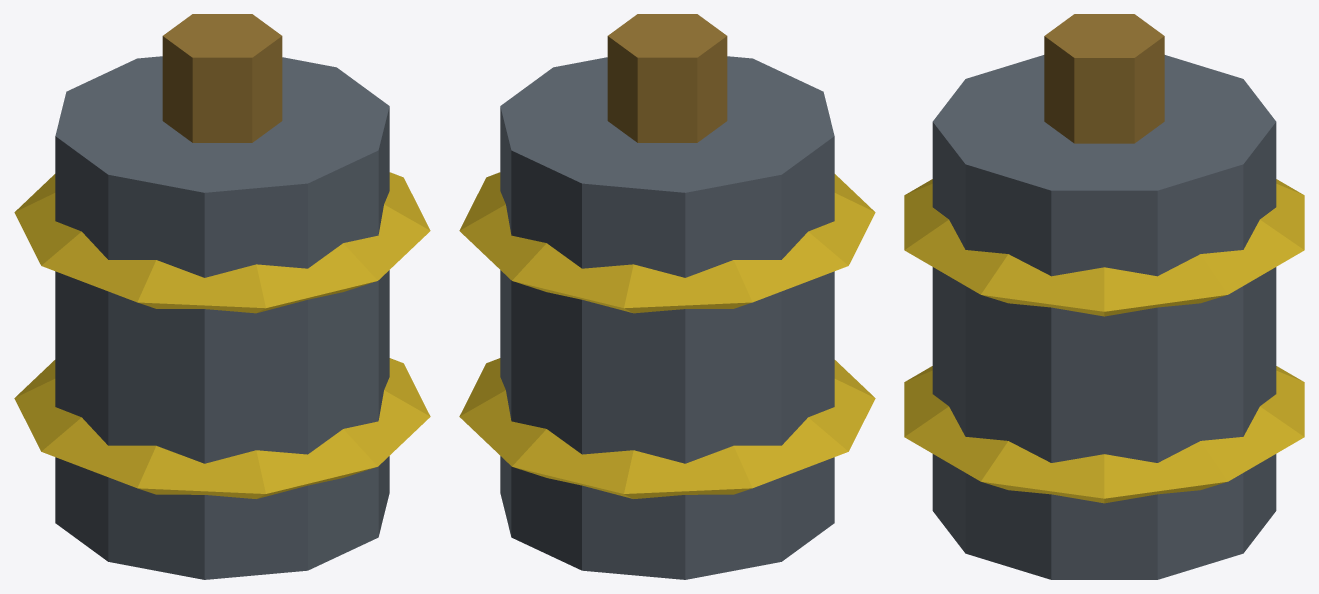
Rendered from cell-deafening.glb.
3 renders of one model, left to right at view 1: azimuth 30°, elevation 25°; view 2: azimuth 150°, elevation 25°; view 3: azimuth 270°, elevation 25°, orthographic.
Visible parts, largest first — view 1: m; view 2: m; view 3: m.
Part boxes in pixels (x1,y1,x2,y2): m: (14, 14, 430, 579); m: (459, 14, 875, 579); m: (904, 14, 1304, 579).
Bounding box in the file's own units: 0.0482 × 0.06 × 0.0458.
